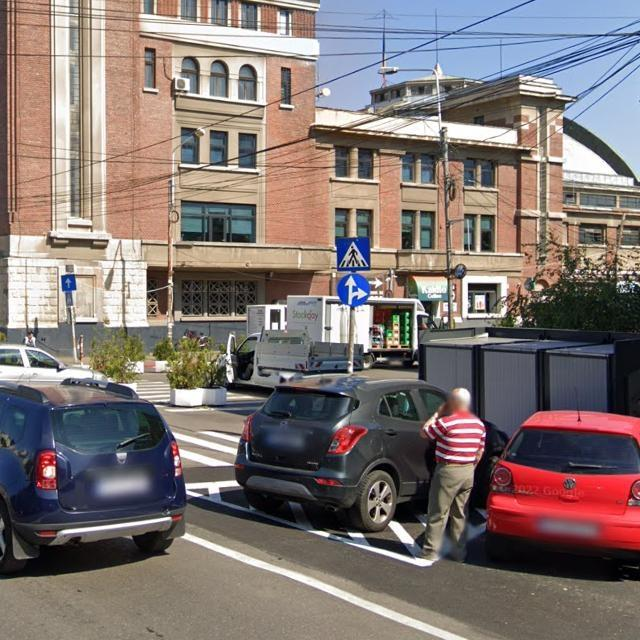info_crosswalk: (335, 236, 370, 274)
